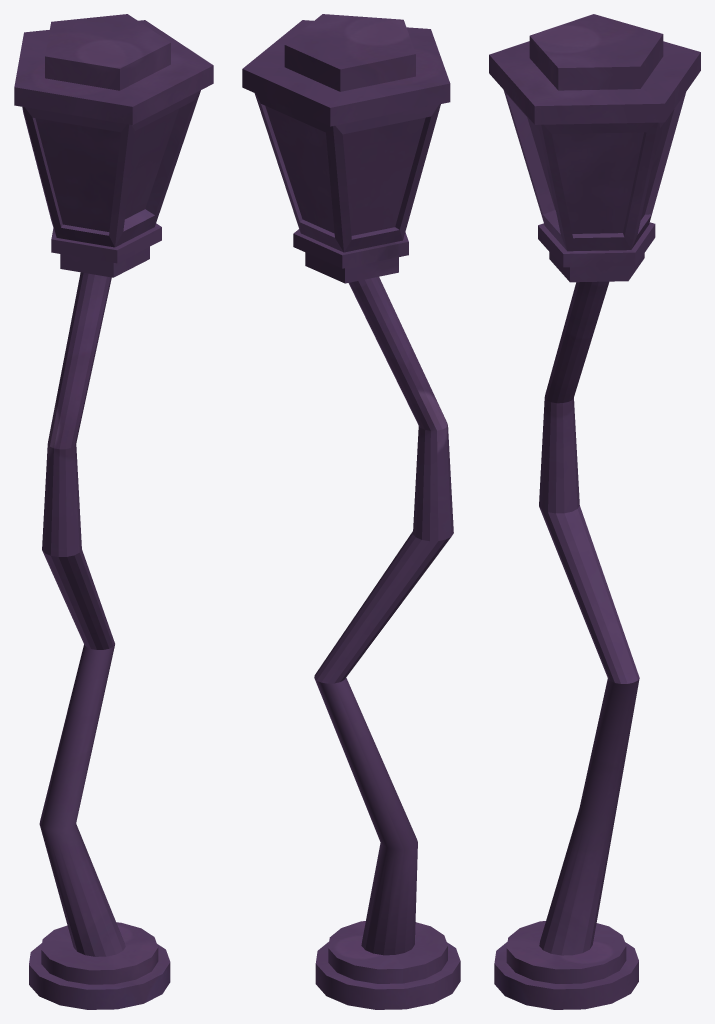
File: lampadaire.fbx
3 views of the same model, side by side, from view 1: azimuth 30°, elevation 25°; view 2: azimuth 150°, elevation 25°; view 3: azimuth 270°, elevation 25° (orthographic). The views are drawn at different scales.
Visible parts, largest first — view 1: pCylinder24; view 2: pCylinder24; view 3: pCylinder24.
Part boxes in pixels (x1,y1,x2,y2): pCylinder24: [14, 14, 213, 1009]; pCylinder24: [242, 14, 460, 1009]; pCylinder24: [489, 14, 700, 1009].
Size of the model in its own units: 2.79 by 14.32 by 2.91.
